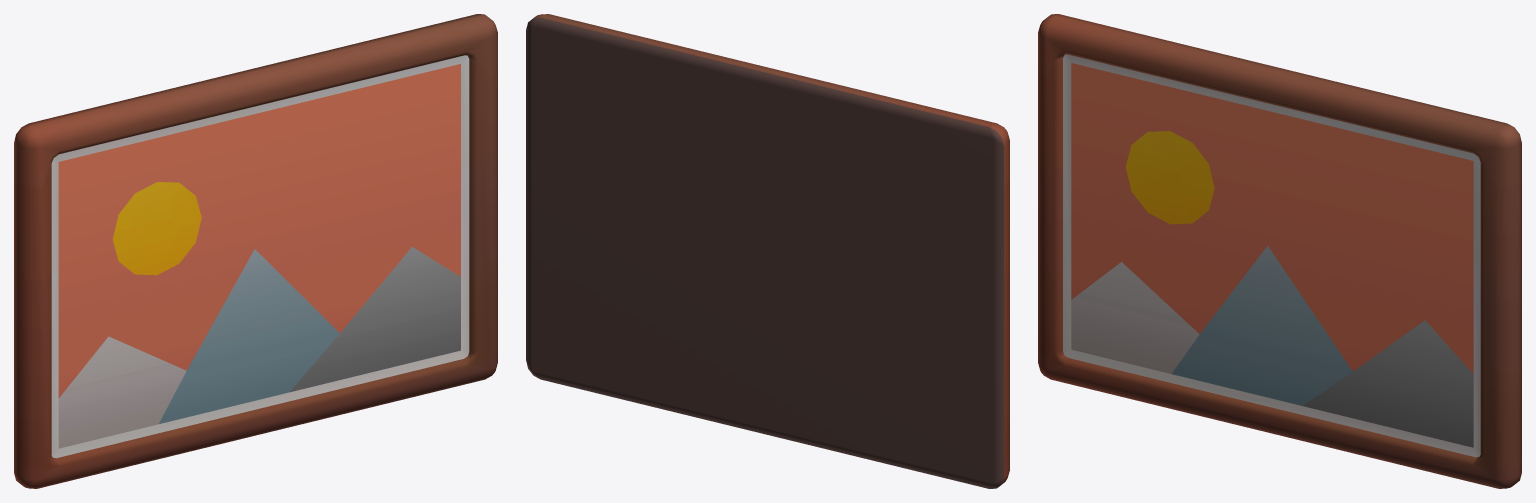
The model's file is Picture_07.glb.
3 renders of one model, left to right at view 1: azimuth 30°, elevation 25°; view 2: azimuth 150°, elevation 25°; view 3: azimuth 330°, elevation 25°, orthographic.
Parts seen in each view (by area): view 1: Picture_07; view 2: Picture_07; view 3: Picture_07.
Part boxes in pixels (box(x1,y1,x2,y2)): Picture_07: box(14, 14, 497, 488); Picture_07: box(526, 14, 1009, 488); Picture_07: box(1038, 14, 1521, 488).
Size of the model in its own units: 1.12 by 0.8087 by 0.0585.
Materials: 1 (1 with a texture image).
